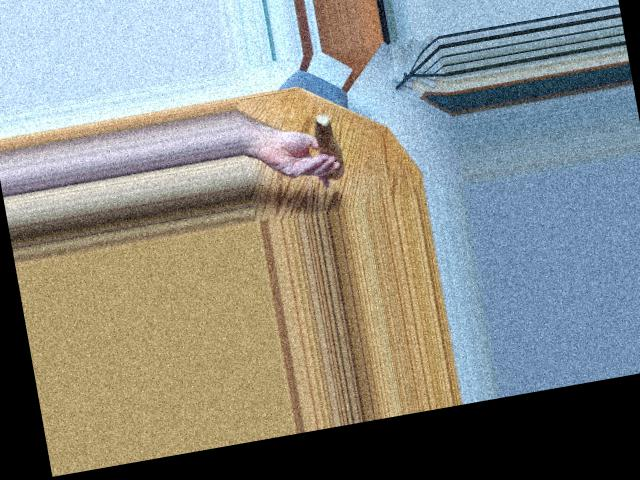sweet_potato: (308, 116, 348, 177)
